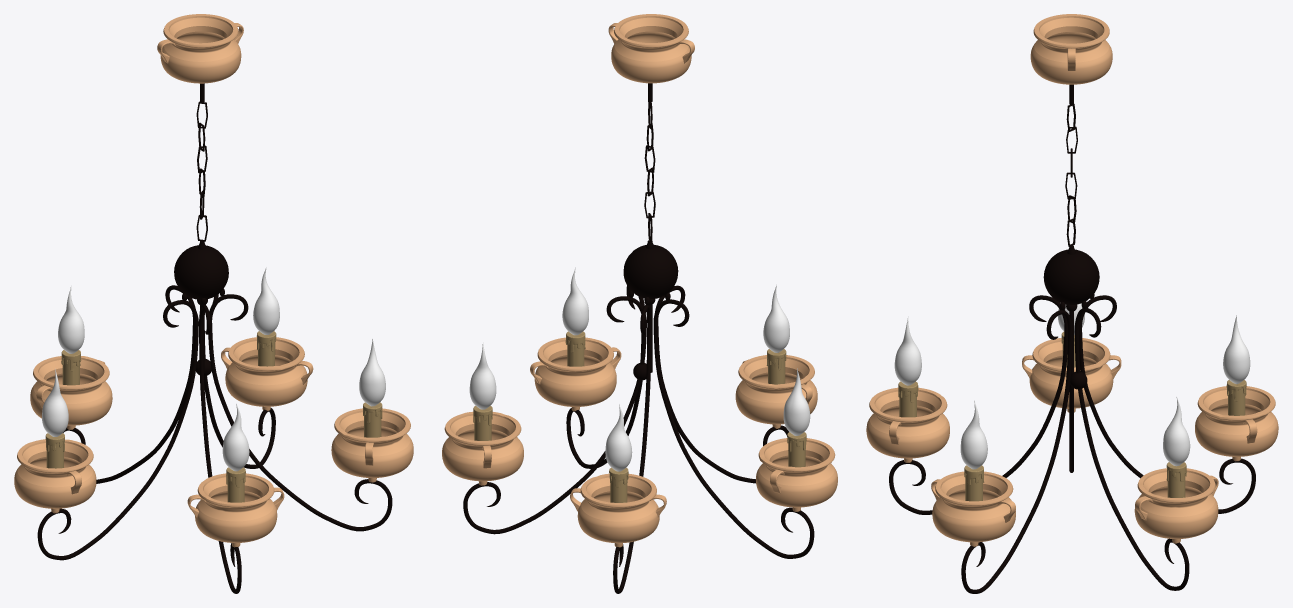
The model's file is bellon-alfareros-s4080.FBX.
The picture shows the model from 3 angles, left to right: view 1: azimuth 30°, elevation 25°; view 2: azimuth 150°, elevation 25°; view 3: azimuth 270°, elevation 25°; orthographic projection.
Visible parts, largest first — view 1: Line015, Line023, Line019, Line002, Line027, Line003, Sphere001, Line001, Line022, Line018, Line030, Line026; view 2: Line027, Line019, Line002, Line023, Line015, Line003, Sphere001, Line001, Line026, Line030, Line018, Line022; view 3: Line019, Line023, Line015, Line027, Line003, Line002, Sphere001, Line022, Line026, Line018, Line030.
Part boxes in pixels (x1,y1,x2,y2): Line015: (195,403,277,547); Line023: (225,267,307,410); Line019: (331,339,413,482); Line002: (14,369,96,513); Line027: (30,286,112,429); Line003: (160,14,241,83); Sphere001: (174,245,228,299); Line001: (37,300,198,560); Line022: (208,294,392,531); Line018: (199,304,241,593); Line030: (63,285,195,483); Line026: (204,294,275,468); Line027: (577,404,659,547); Line019: (534,267,616,411); Line002: (756,368,837,511); Line023: (442,342,523,485); Line015: (735,284,817,428); Line003: (611,14,691,83); Sphere001: (623,245,678,299); Line001: (653,299,814,558); Line026: (463,296,646,534); Line030: (613,305,651,593); Line018: (655,285,788,483); Line022: (566,285,644,468); Line019: (932,400,1015,546); Line023: (1134,397,1218,543); Line015: (866,316,949,462); Line027: (1195,315,1278,461); Line003: (1030,14,1112,84); Line002: (1029,303,1113,412); Sphere001: (1043,249,1099,304); Line022: (961,310,1072,593); Line026: (1074,308,1189,590); Line018: (889,295,1067,514); Line030: (1079,295,1255,513).
Size of the model in its own units: 509 by 710 by 524.
